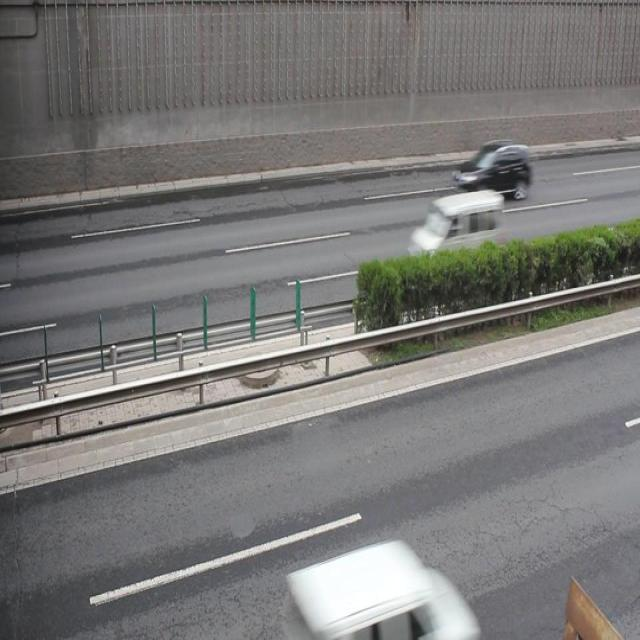car: (281, 539, 481, 640), (452, 138, 531, 201)
truck: (410, 190, 504, 272)
